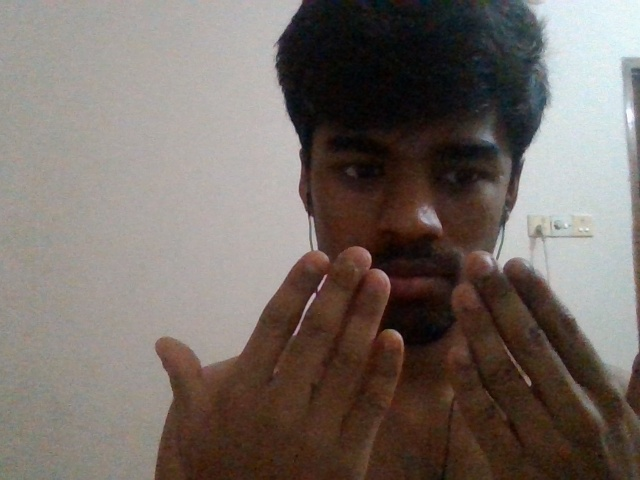Thanks: (135, 243, 640, 480)
